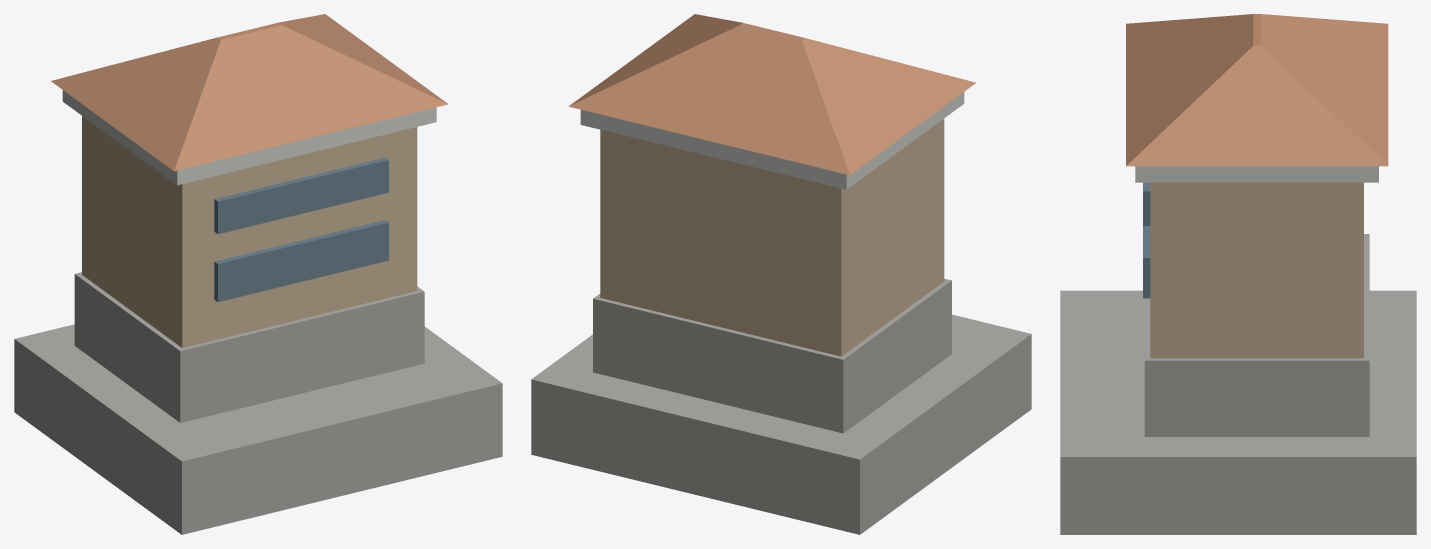
File: house-renaissance-1.glb
3 renders of one model, left to right at view 1: azimuth 30°, elevation 25°; view 2: azimuth 150°, elevation 25°; view 3: azimuth 270°, elevation 25°, orthographic. The views are drawn at different scales.
Parts seen in each view (by area): view 1: LOD0; view 2: LOD0; view 3: LOD0.
Part boxes in pixels (box(x1,y1,x2,y2)): LOD0: box(14, 14, 502, 534); LOD0: box(531, 14, 1031, 534); LOD0: box(1060, 14, 1416, 534).
Size of what is drawn, in the model's own units: 0.21 by 0.2484 by 0.19.
